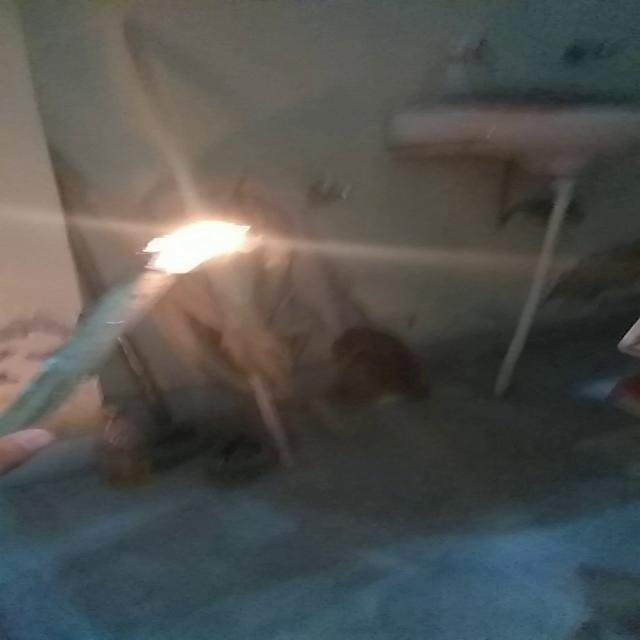Fire: (140, 209, 254, 273)
